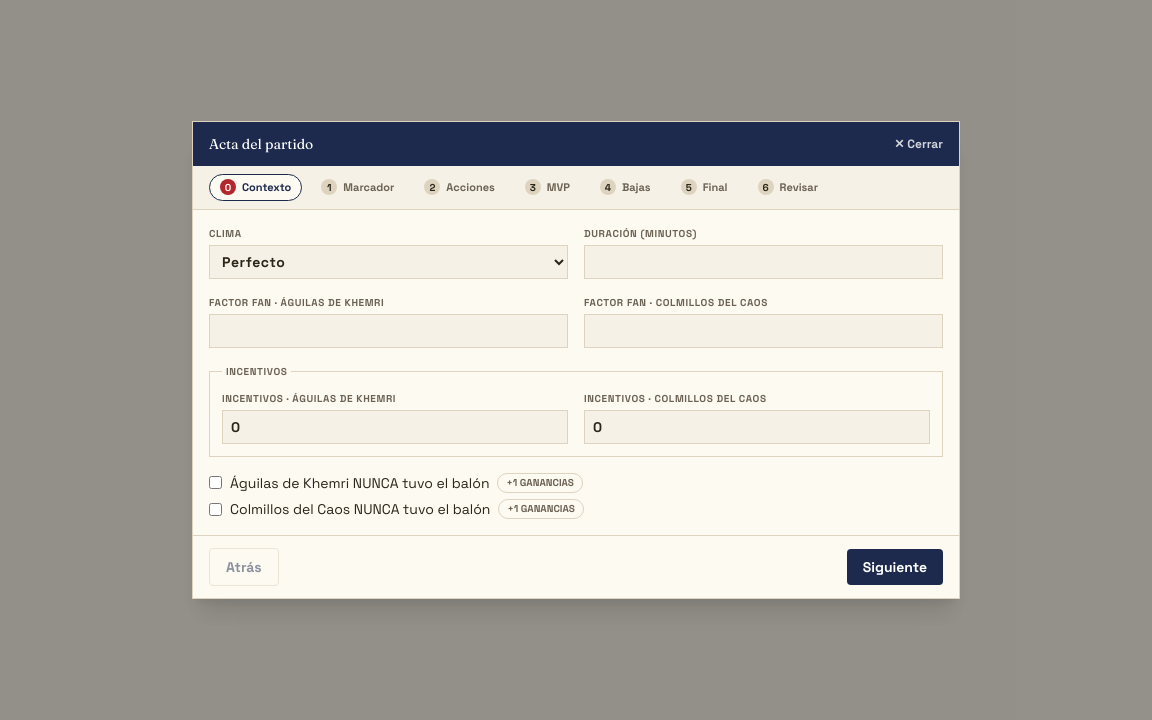
Test: MatchActaWizard capture › captures the Marcador scores across step changes
Click the button "Siguiente" at (895,567), box x1=847 y1=549 x2=943 y2=585
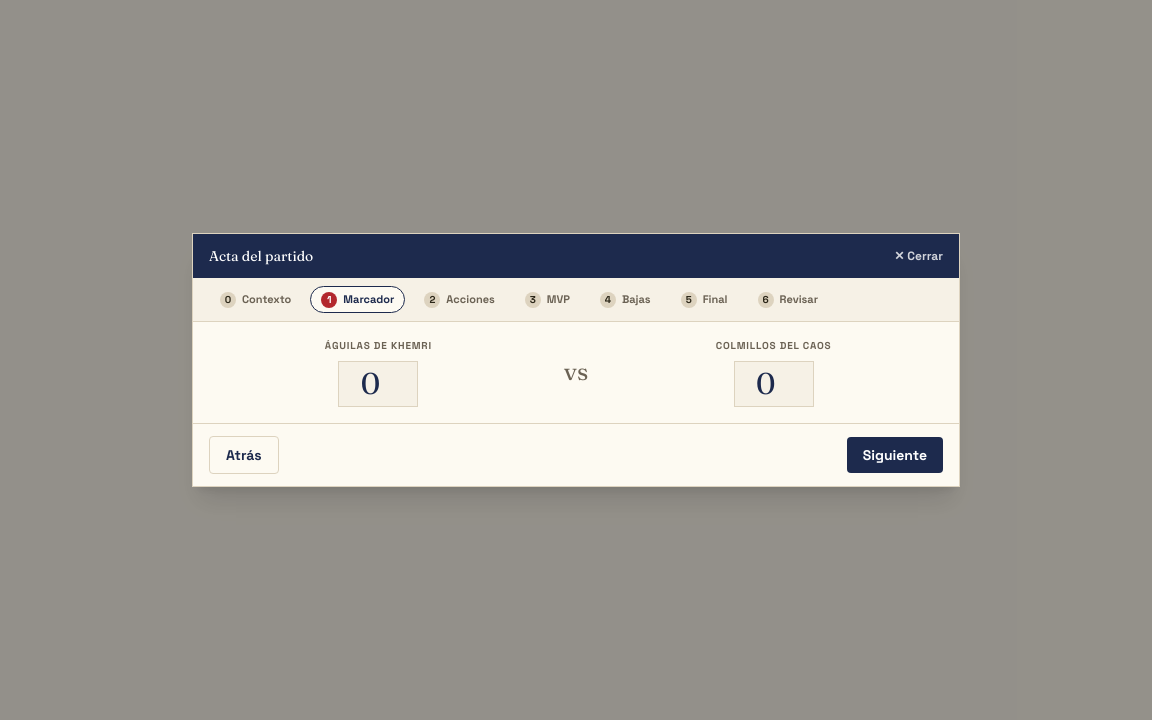
Replace the text in the number field labelled "Águilas de Khemri" with "2" at (378,384), box x1=338 y1=361 x2=418 y2=407
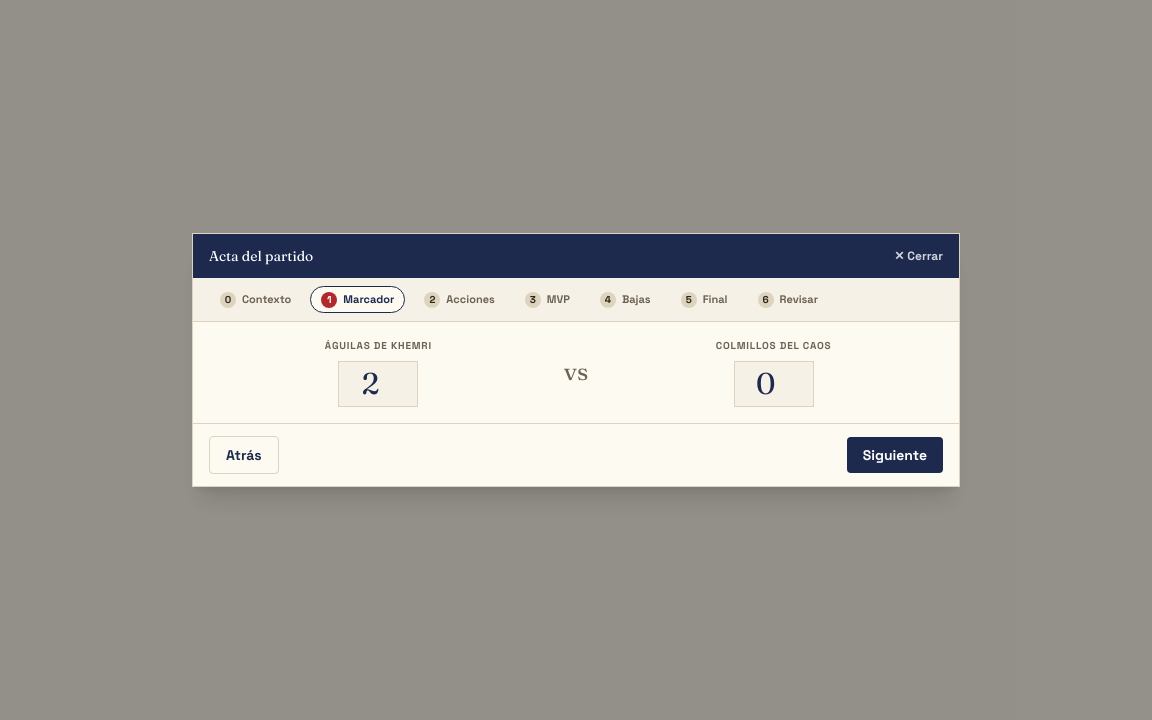
Replace the text in the number field labelled "Colmillos del Caos" with "1" at (774,384), box x1=734 y1=361 x2=814 y2=407
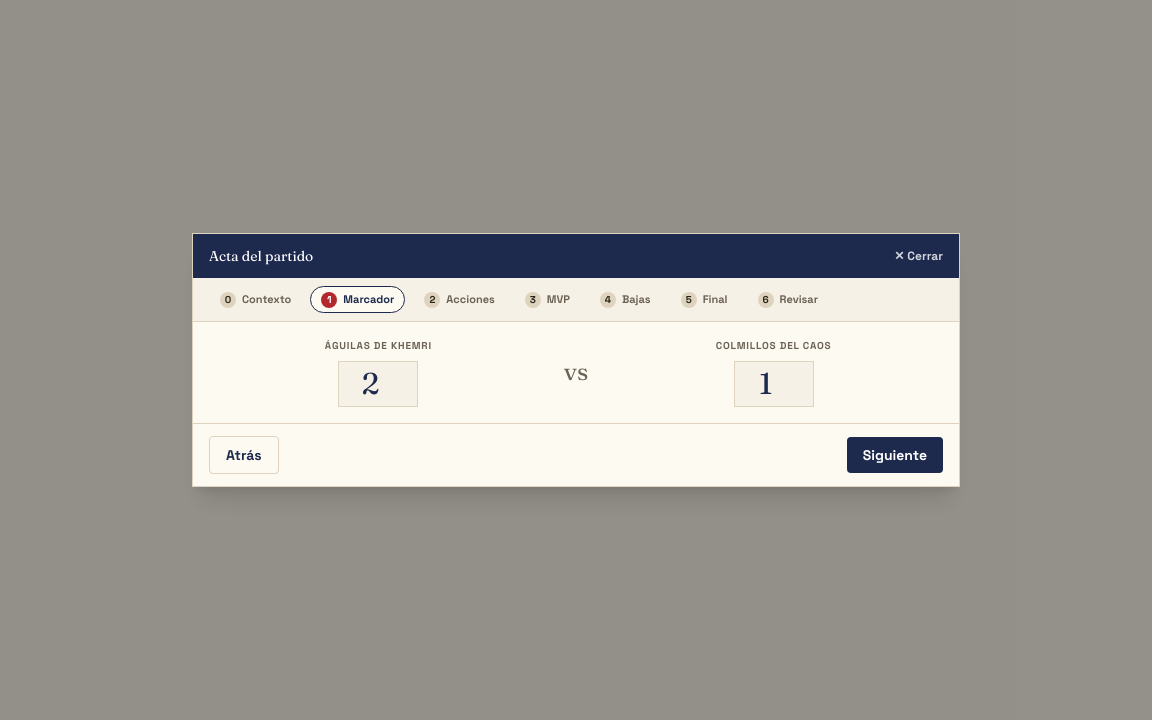
Click the button "Siguiente" at (895,455), box x1=847 y1=437 x2=943 y2=473
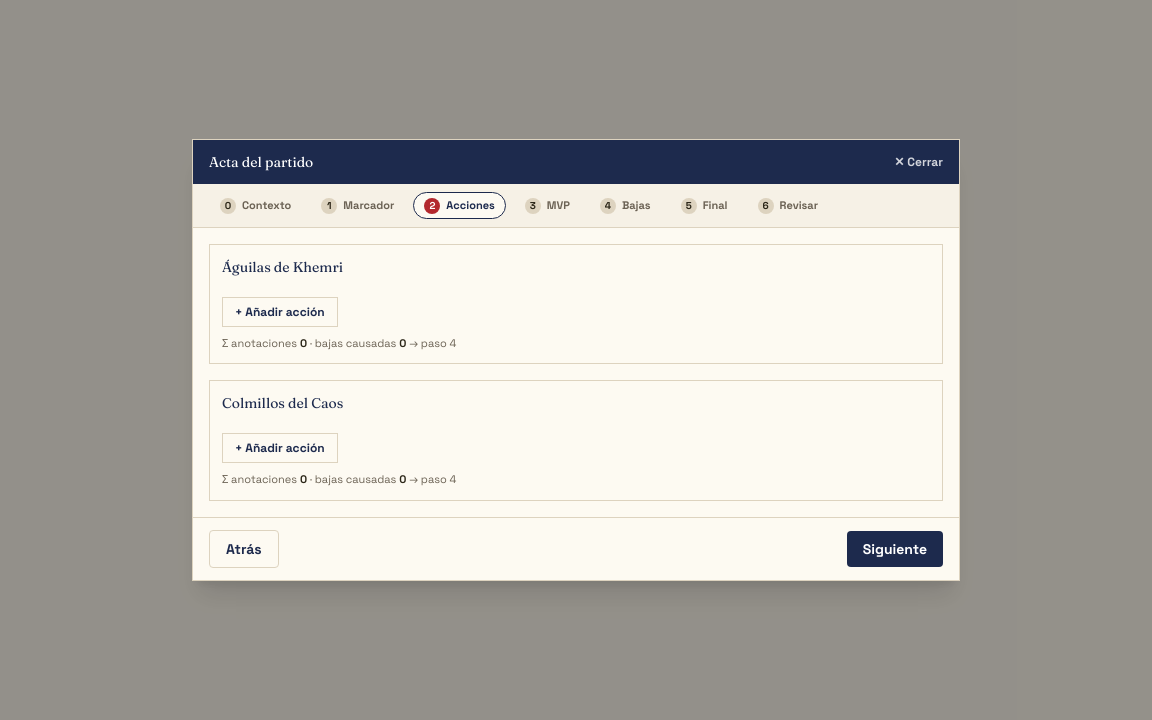
Click the button "Atrás" at (244,549), box x1=209 y1=530 x2=279 y2=568
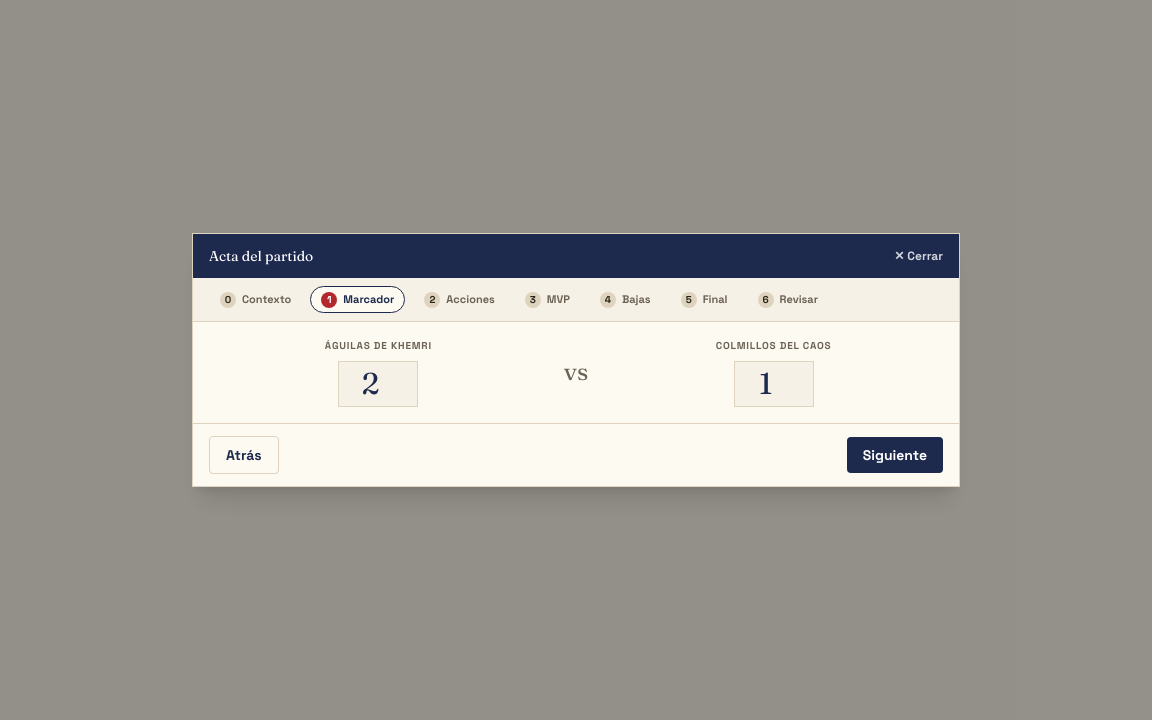
Expected: the number field labelled "Águilas de Khemri" holds "2", x1=338 y1=361 x2=418 y2=407
Expected: the number field labelled "Colmillos del Caos" holds "1", x1=734 y1=361 x2=814 y2=407
